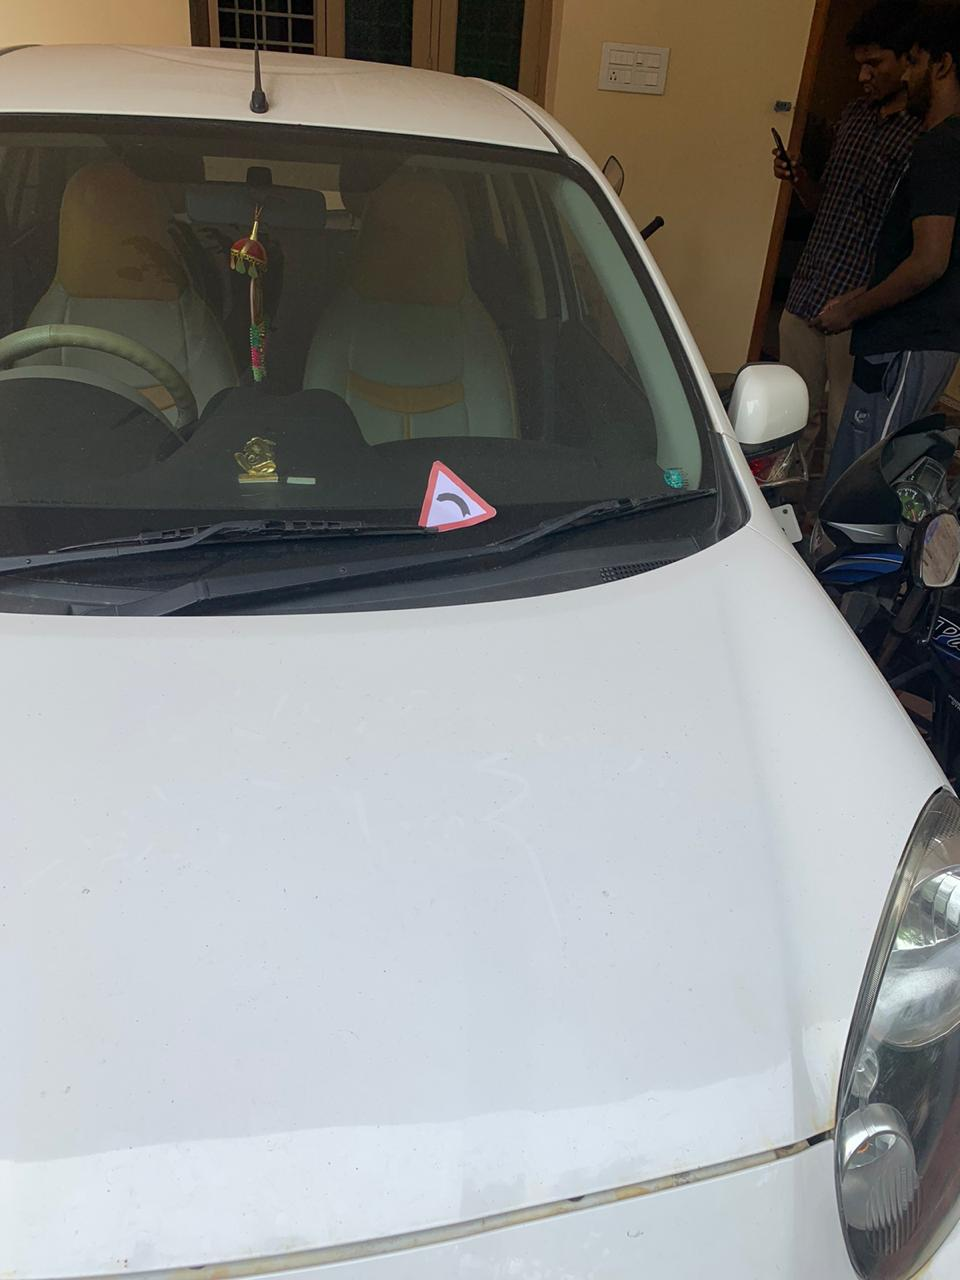LEFT CURVE: (405, 431, 520, 545)
